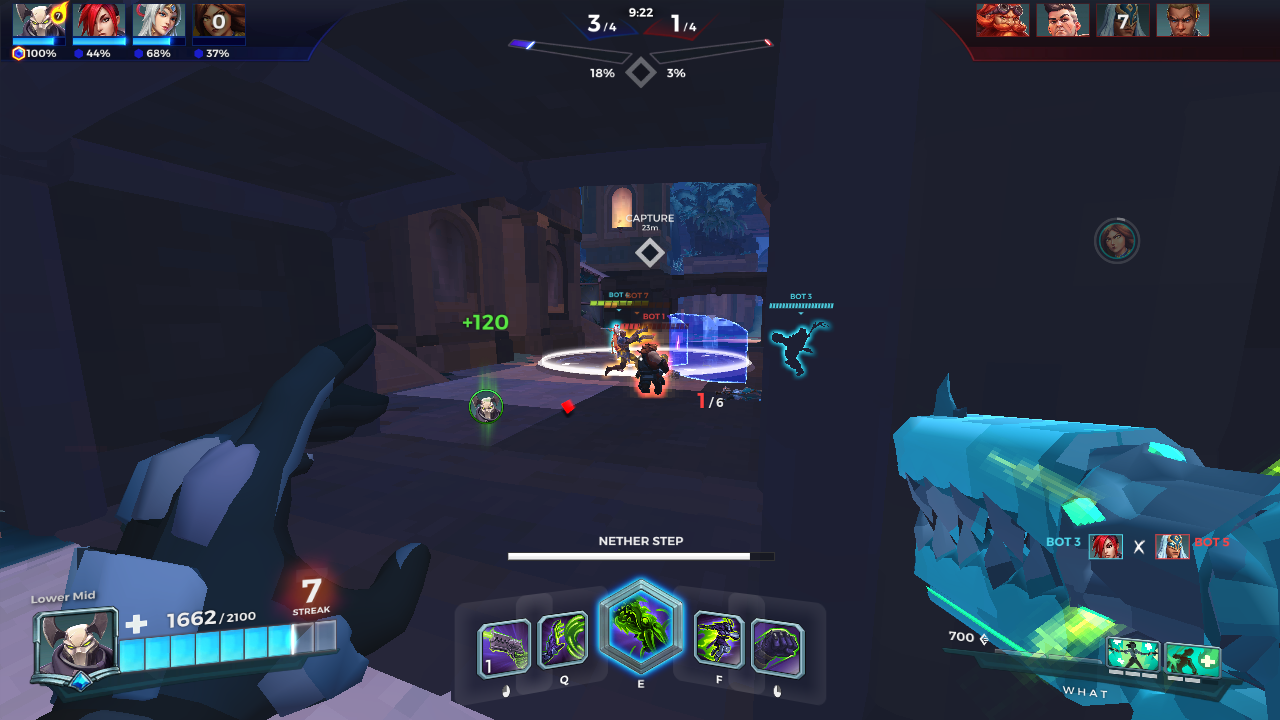model: (632, 340, 669, 398)
